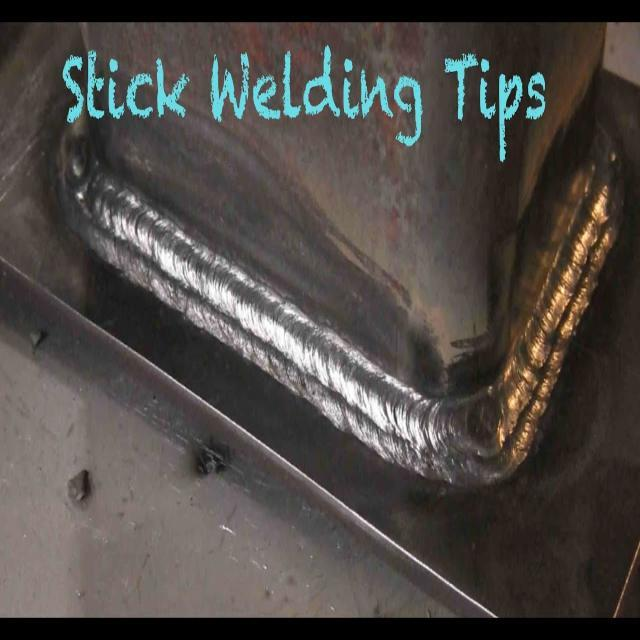Crack: (476, 394, 550, 477)
Good Welding: (72, 165, 322, 322), (227, 322, 449, 472)
